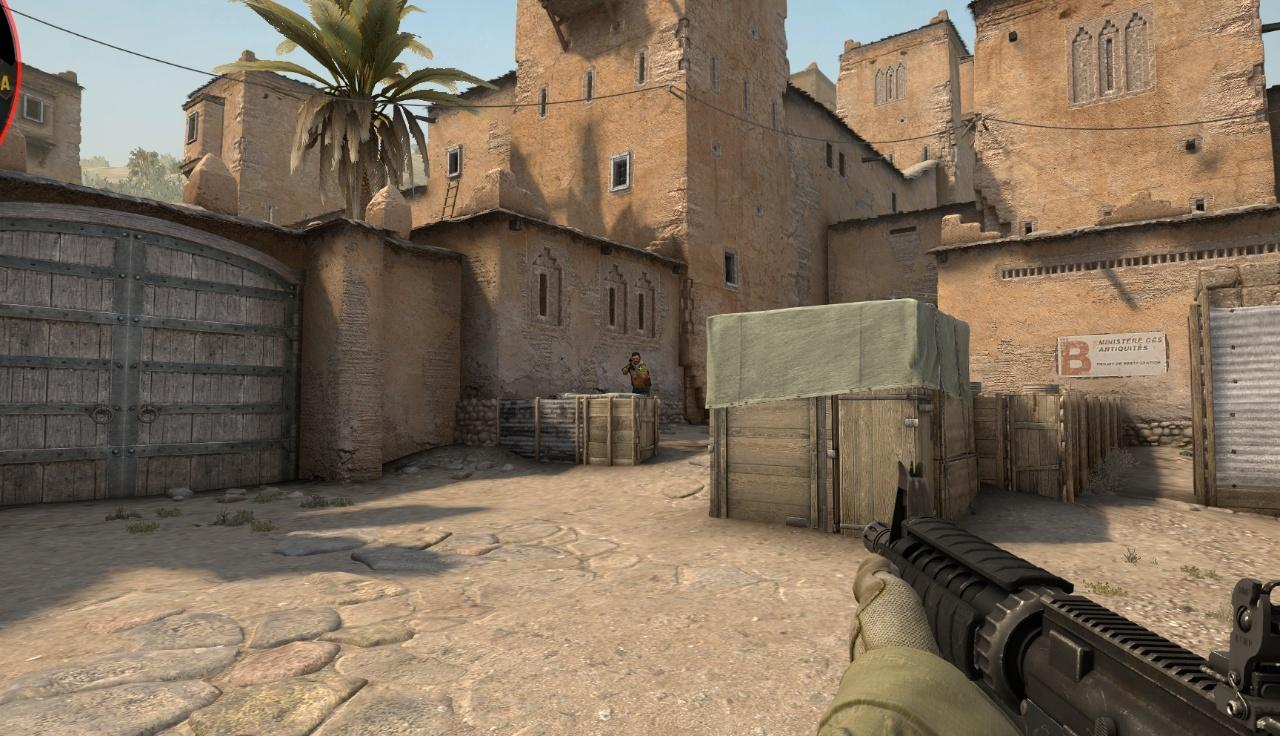rifle: (817, 461, 1280, 736)
tt: (622, 352, 652, 398)
tthead: (632, 351, 640, 365)
